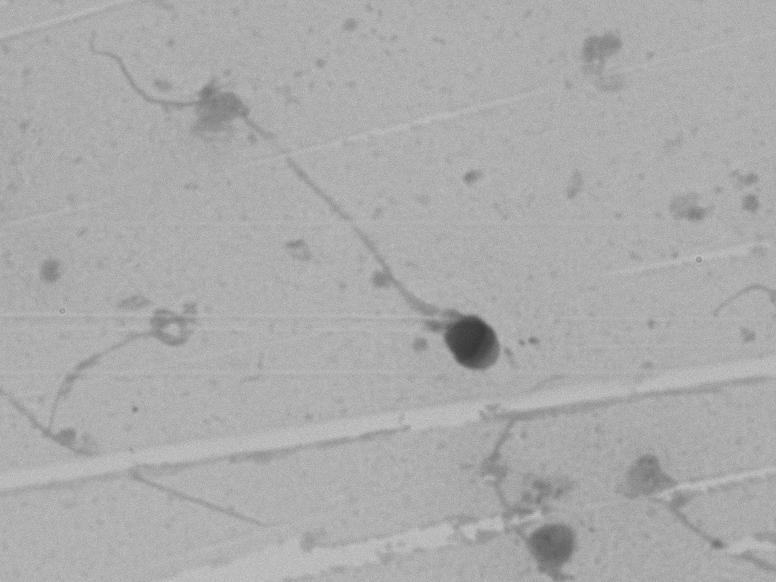Abnormal: (190, 101, 563, 394)
